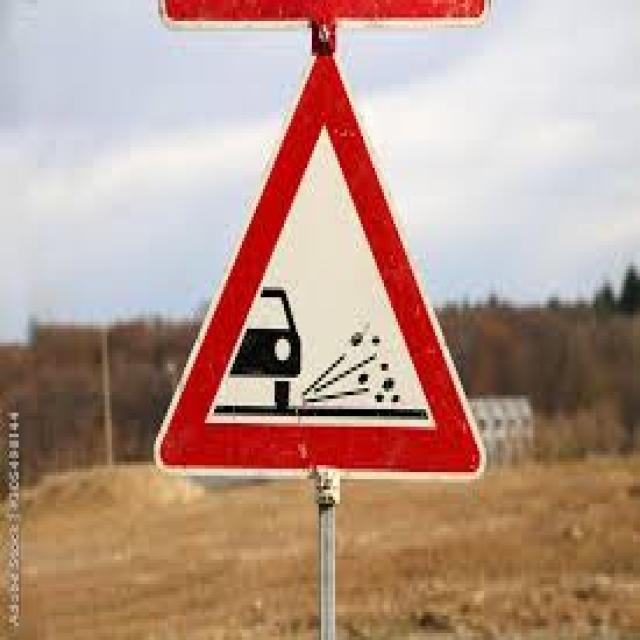loose gravel: (144, 40, 492, 493)
